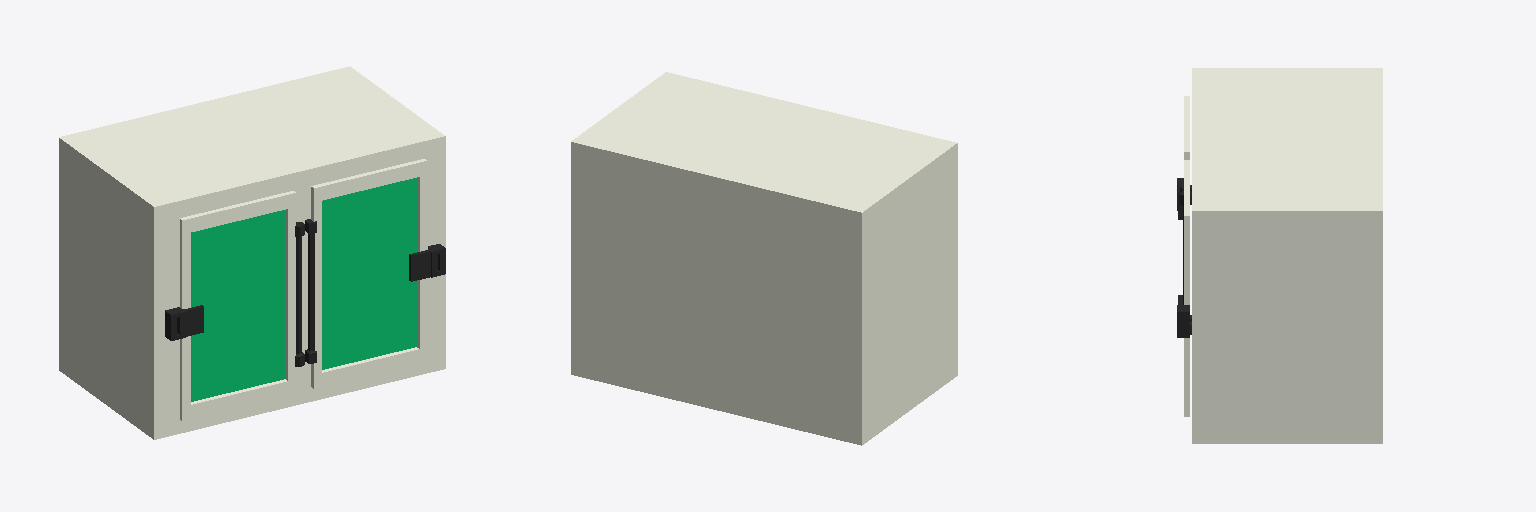
File: Congelador.obj
3 views of the same model, side by side, from view 1: azimuth 30°, elevation 25°; view 2: azimuth 150°, elevation 25°; view 3: azimuth 270°, elevation 25° (orthographic).
Visible parts, largest first — view 1: Congelador_Cube.010; view 2: Congelador_Cube.010; view 3: Congelador_Cube.010.
Part boxes in pixels (x1,y1,x2,y2): Congelador_Cube.010: (59,66,445,439); Congelador_Cube.010: (571,72,957,445); Congelador_Cube.010: (1177,68,1382,443).
Size of the model in its own units: 7.12 by 5.44 by 4.37.